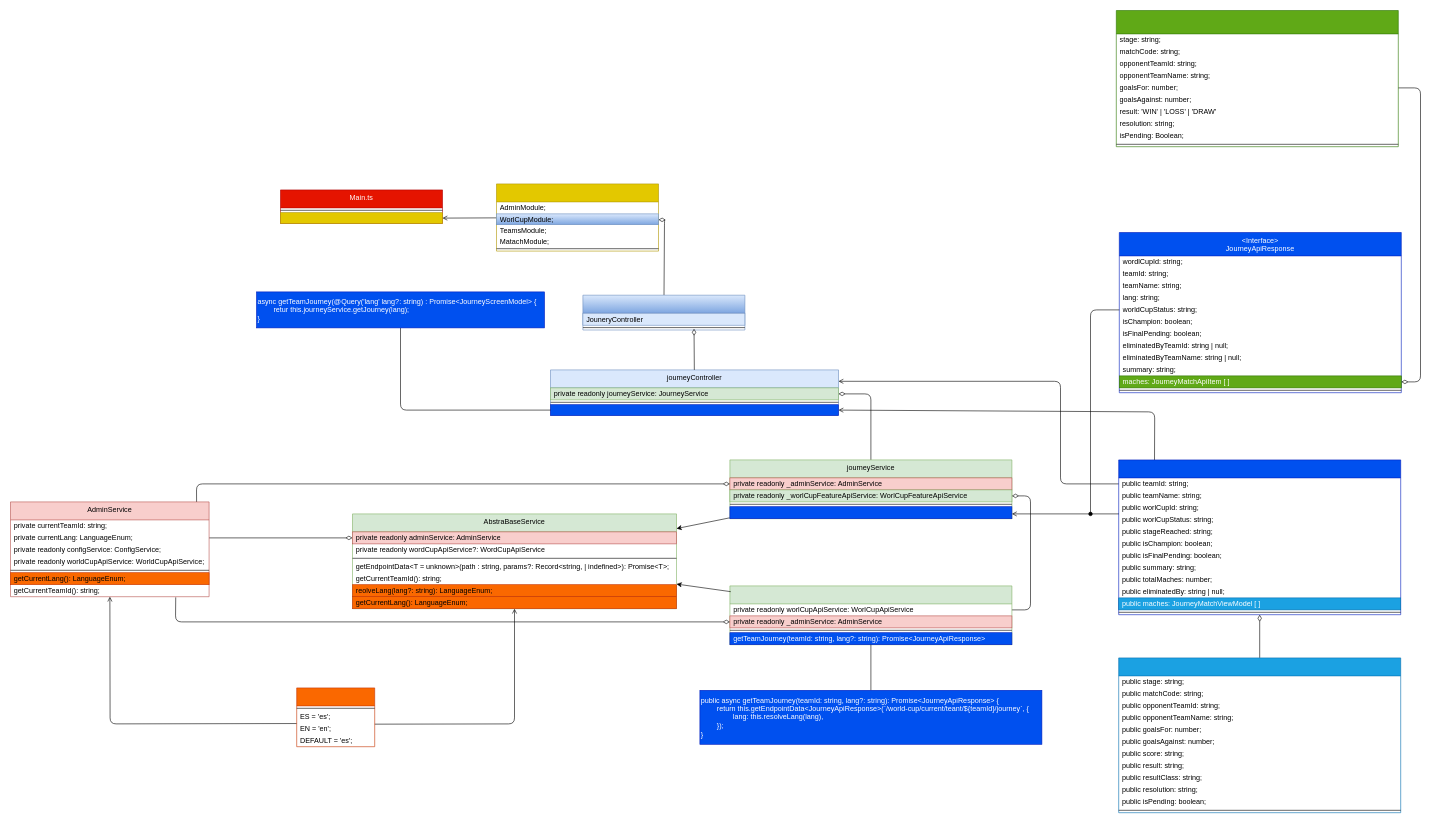
This 1438x823 diagram has some shape labels left out. The shapes that lost their labels are listed below. From the top down, each one's box as (x1, y1, x2, y2) in pixels, then its label:
(1116, 10, 1398, 147): <Interface> JourneyMatchApiItem
(280, 212, 442, 224): bootstrap(): NestFactory.create(AppModule);
(496, 183, 658, 251): app.module.ts
(582, 295, 745, 330): world-cup.module.ts
(550, 404, 838, 416): async getTeamJourney(@Query('lang' lang?: string) : Promise<JourneyScreenModel>
(729, 506, 1012, 519): getJourney(lang?: string). Promise<JourneyScreenModel>;
(1118, 459, 1401, 615): JourneyScreenModel
(729, 585, 1012, 645): W orlCupFeatureApiService
(296, 687, 375, 747): LanguageEnum
(1118, 657, 1401, 813): JourneyMatchViewModel
